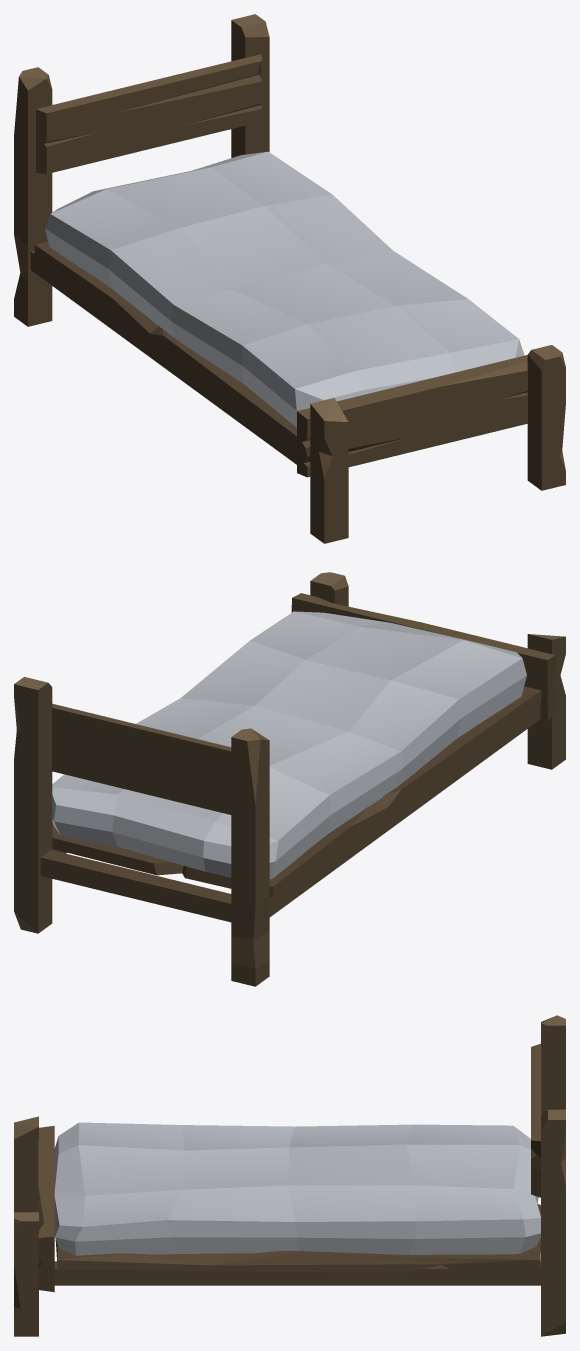
Rendered from SM_Prop_Bed_05.fbx.
3 views of the same model, one above another, from view 1: azimuth 30°, elevation 25°; view 2: azimuth 150°, elevation 25°; view 3: azimuth 270°, elevation 25° (orthographic). The views are drawn at different scales.
Visible parts, largest first — view 1: SM_Prop_Bed_05; view 2: SM_Prop_Bed_05; view 3: SM_Prop_Bed_05.
Part boxes in pixels (x1,y1,x2,y2): SM_Prop_Bed_05: (14, 14, 565, 543); SM_Prop_Bed_05: (14, 572, 565, 986); SM_Prop_Bed_05: (14, 1015, 565, 1336).
Size of the model in its own units: 1.06 by 0.9639 by 2.23.
1 material, 1 textured.
